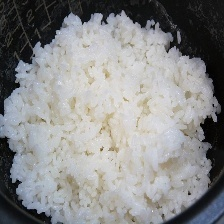rice: (0, 6, 224, 224)
